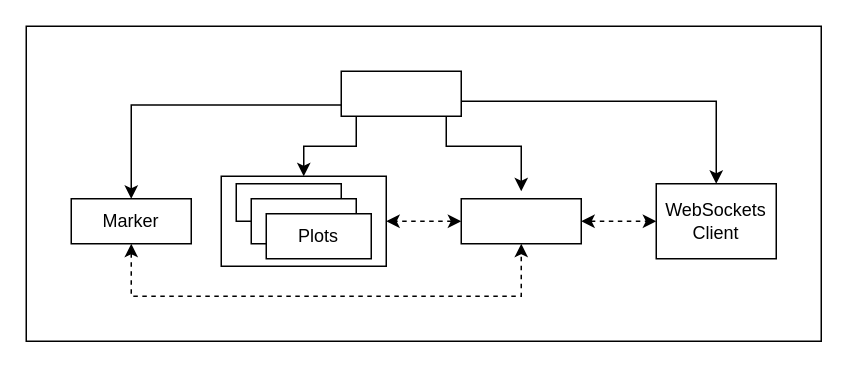
Image size: 848x368. Some labels were removed from this diagram. The shapes that lost their labels are listed below. From the top down, each one's centre as x and y in pixels, then its label:
At (400,93): "Scene".
At (520,220): "Events".
